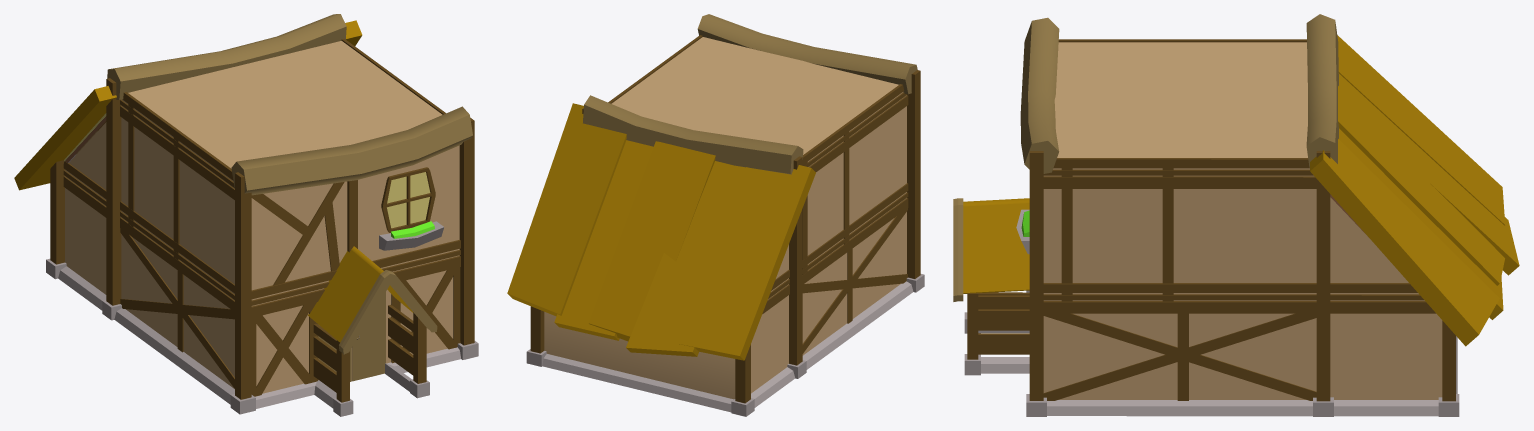
The model's file is mesh_flat_roof_1_Without.fbx.
3 renders of one model, left to right at view 1: azimuth 30°, elevation 25°; view 2: azimuth 150°, elevation 25°; view 3: azimuth 270°, elevation 25°, orthographic. The views are drawn at different scales.
Parts seen in each view (by area): view 1: flat_roof_1_Without; view 2: flat_roof_1_Without; view 3: flat_roof_1_Without.
Boxes of the visible parts, left/top/right/bottom form: flat_roof_1_Without: left=14, top=14, right=478, bottom=416; flat_roof_1_Without: left=507, top=14, right=924, bottom=416; flat_roof_1_Without: left=953, top=14, right=1519, bottom=416.
Size of the model in its own units: 748 by 671 by 1246.
1 material, 1 textured.
